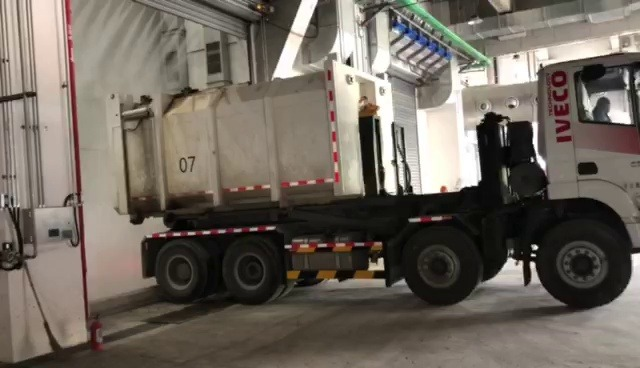dust: (81, 134, 126, 298)
truck: (96, 47, 640, 313)
